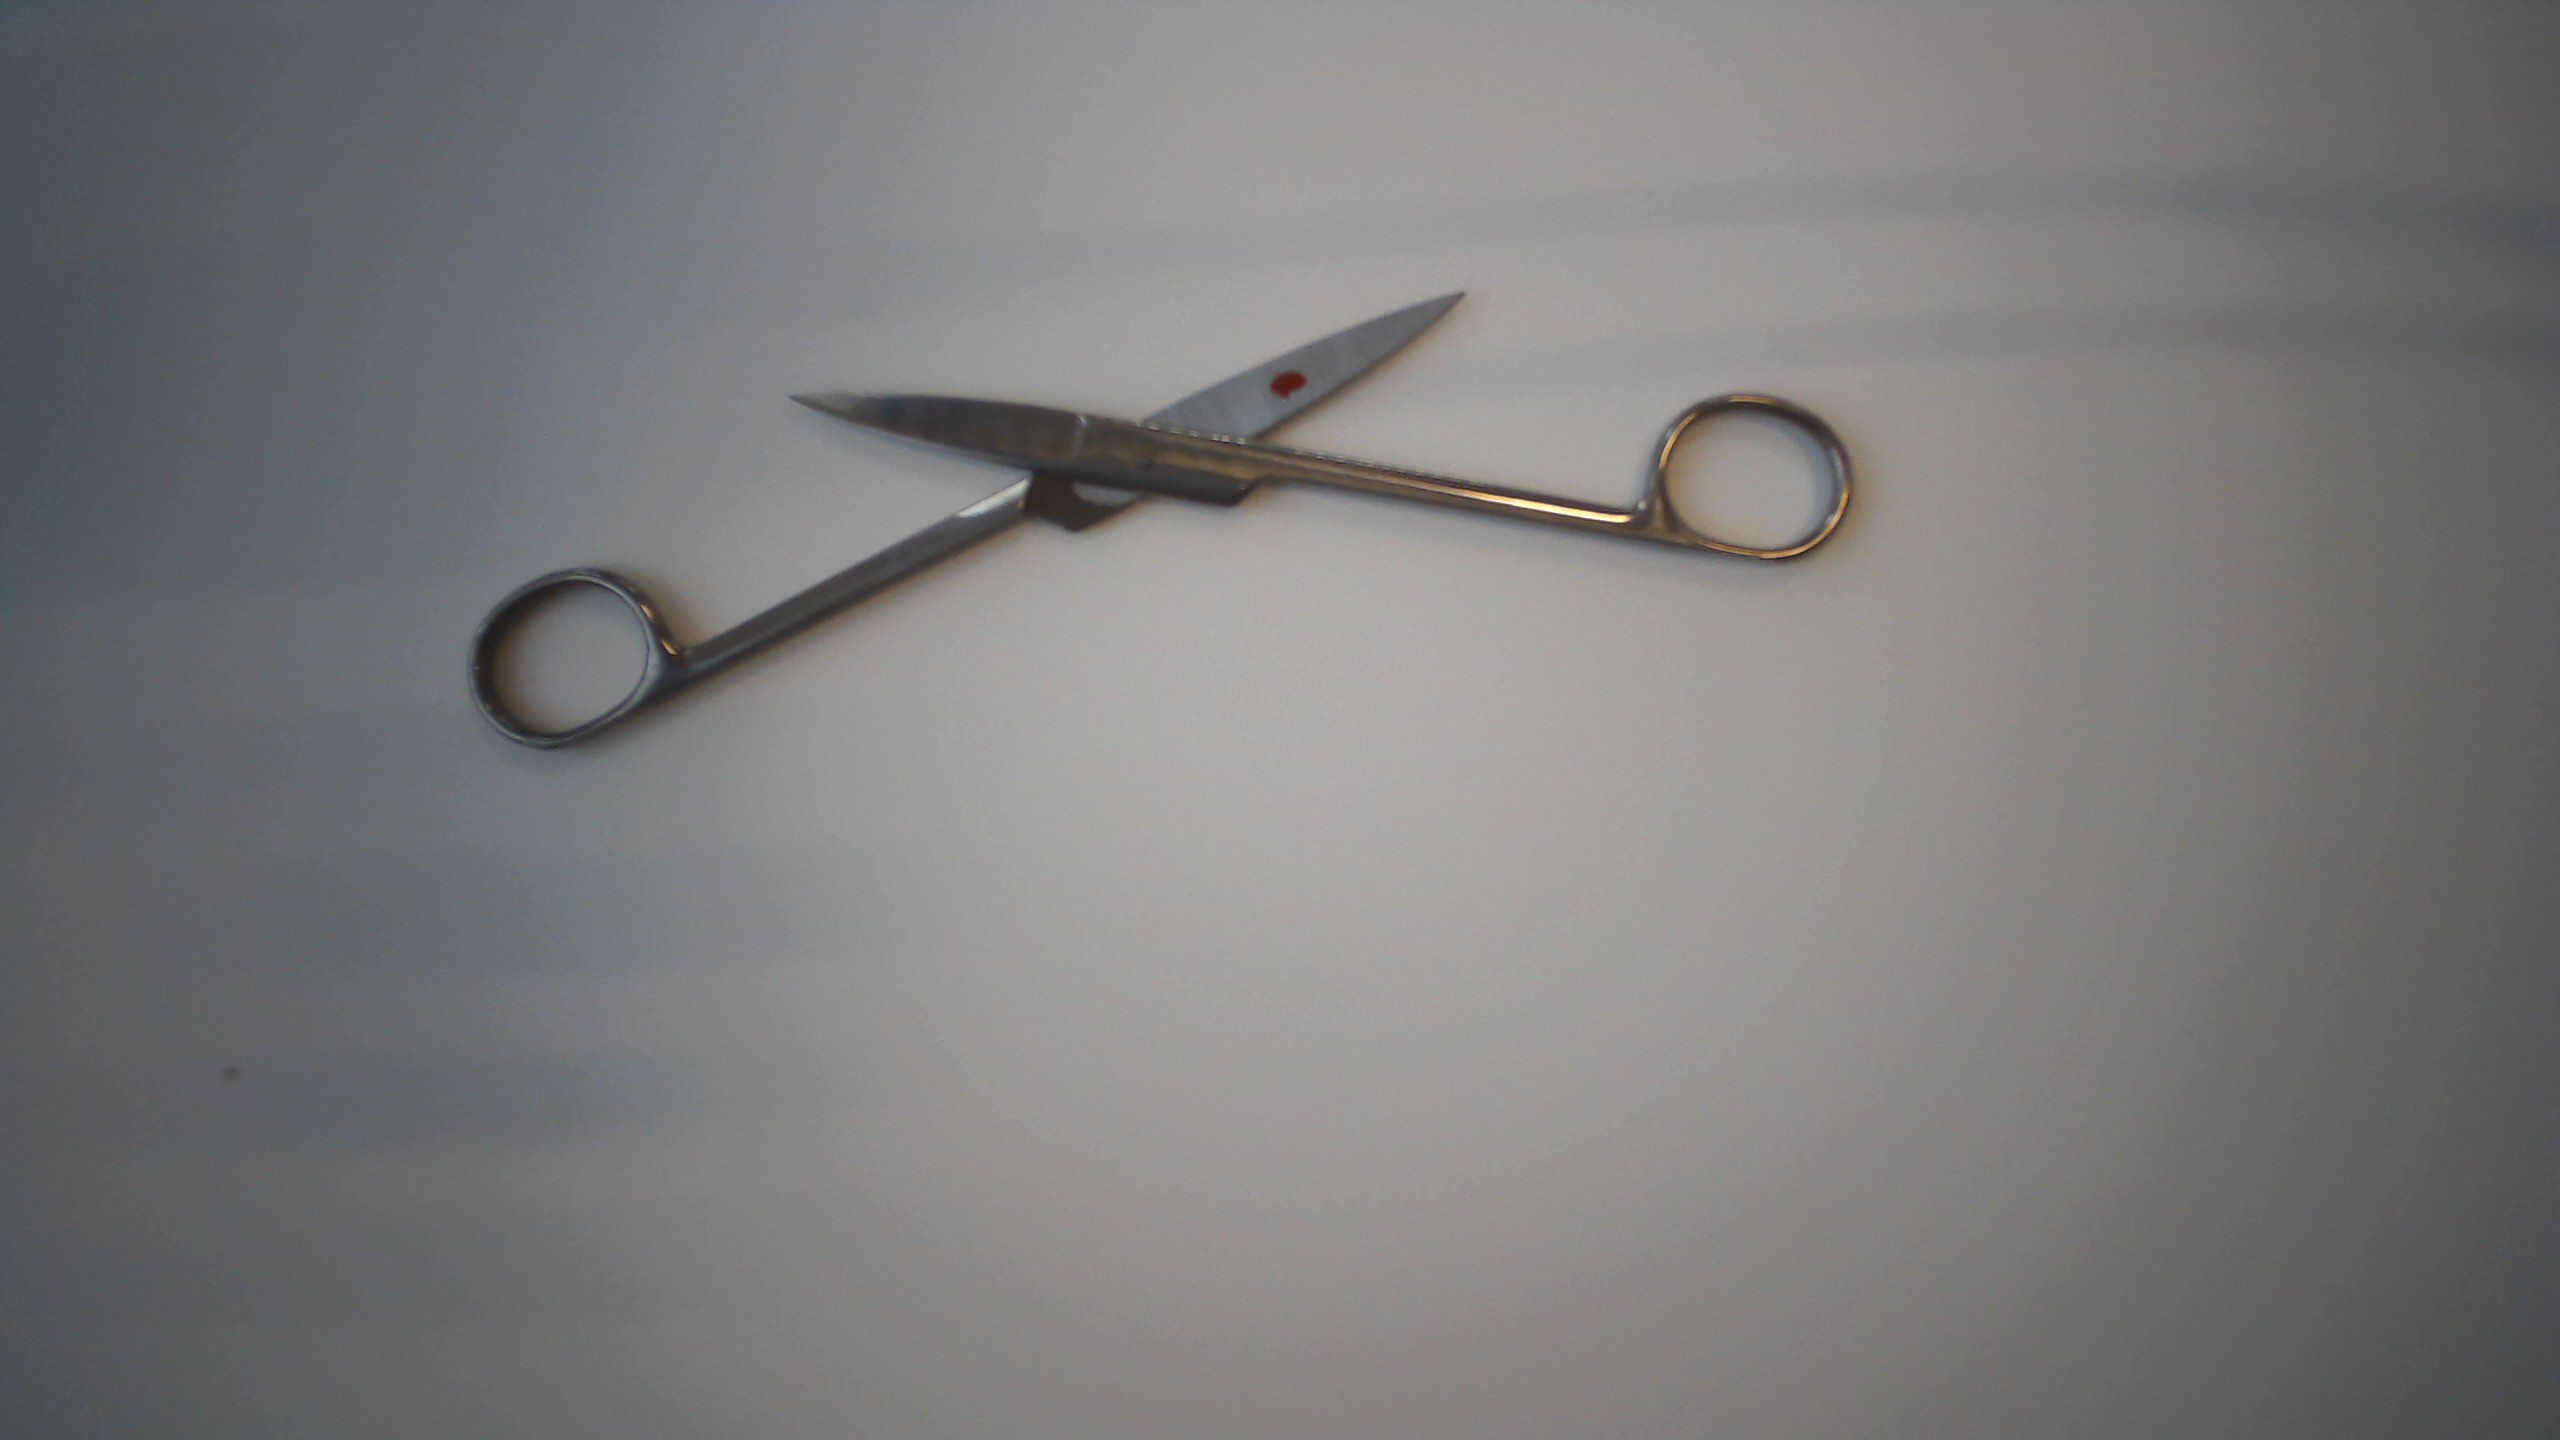Stain: (1259, 362, 1317, 399)
